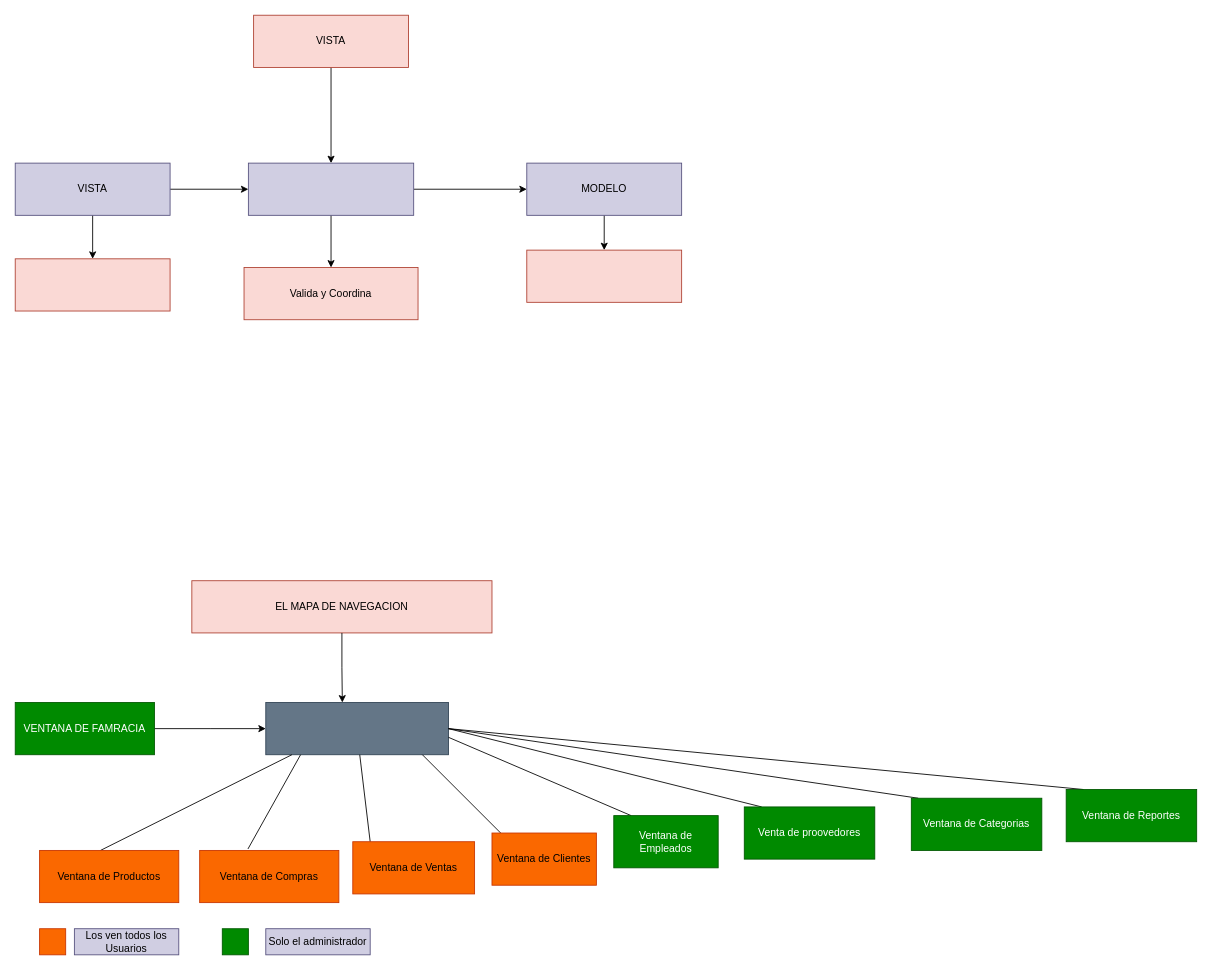
This 1212x977 diagram has some shape labels left out. The box of each missing label's shape, as (x1, y1, x2, y2) in pixels:
CONTROLADOR: (248, 162, 414, 215)
Lee lo que el usuario escribe y muestra resultados: (14, 258, 170, 311)
Los datos y Modelos de Reglas: (526, 249, 682, 302)
VENTA DE SISTEMVIEW.JAVA: (265, 702, 448, 755)
